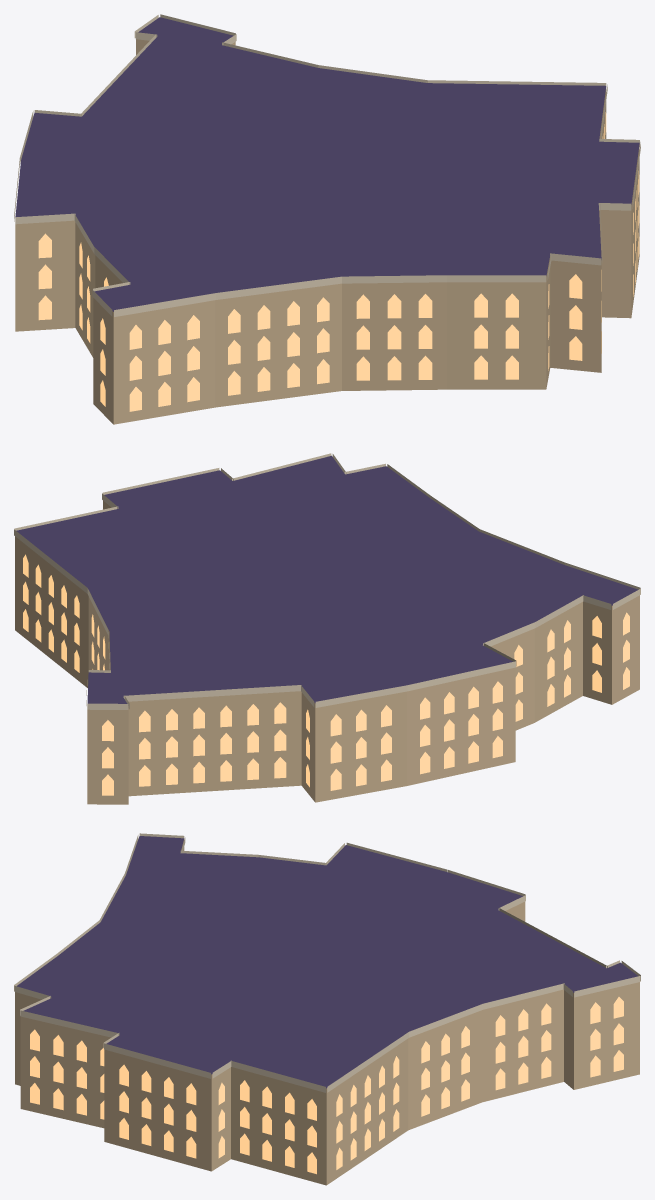
File: core-alumni-hall.glb
3 renders of one model, top to bottom at view 1: azimuth 30°, elevation 25°; view 2: azimuth 150°, elevation 25°; view 3: azimuth 270°, elevation 25°, orthographic. The views are drawn at different scales.
Visible parts, largest first — view 1: campus/core-alumni-hall-0; view 2: campus/core-alumni-hall-0; view 3: campus/core-alumni-hall-0.
Part boxes in pixels (x1,y1,x2,y2): campus/core-alumni-hall-0: [14, 14, 640, 424]; campus/core-alumni-hall-0: [14, 453, 640, 804]; campus/core-alumni-hall-0: [14, 833, 640, 1185].
Bounding box in the file's own units: 67.25 × 12.25 × 70.3.
